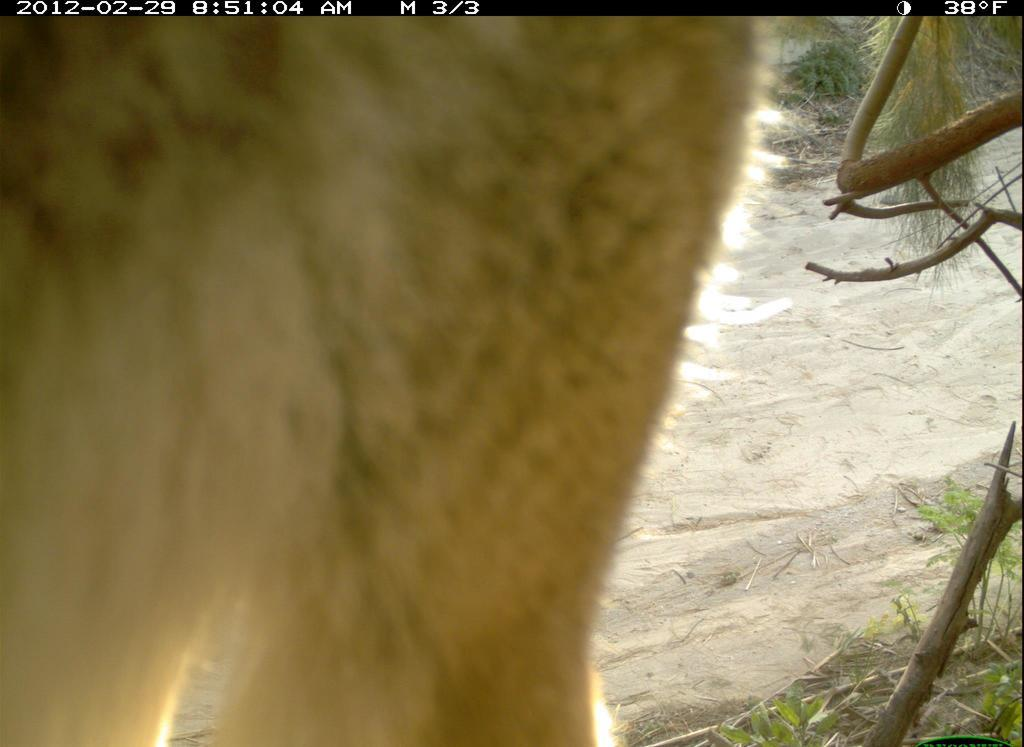coyote: (2, 17, 777, 745)
